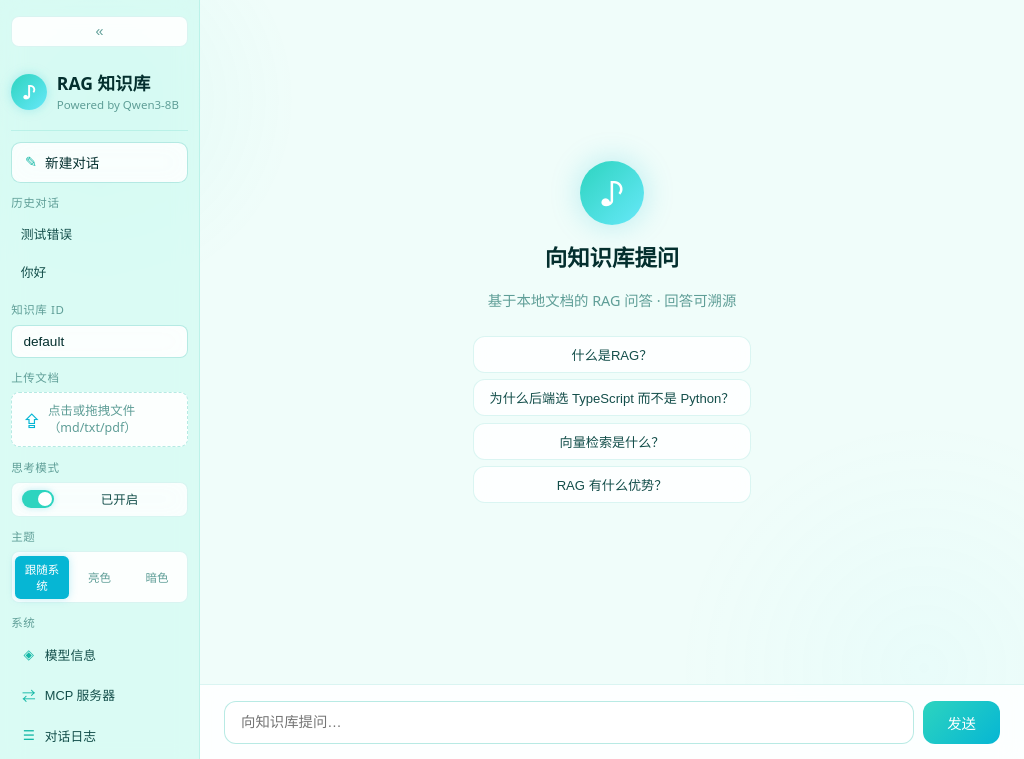
Test case: M3 流式问答页 › 空命中：sources 为空 + done.message 显示未找到提示
Type "不存在的问题" into the field with placeholder "向知识库提问…". click: {"x": 569, "y": 722}
box: [224,701,914,744]
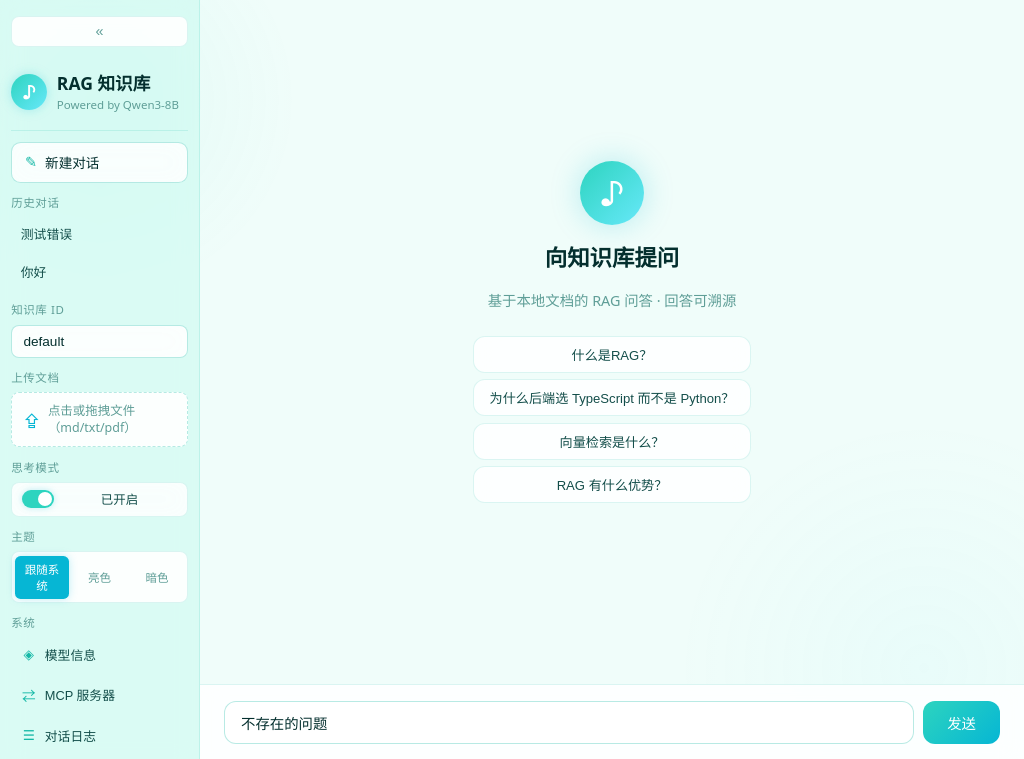
Click the button "发送". click: {"x": 962, "y": 722}
box: [923,701,1000,744]
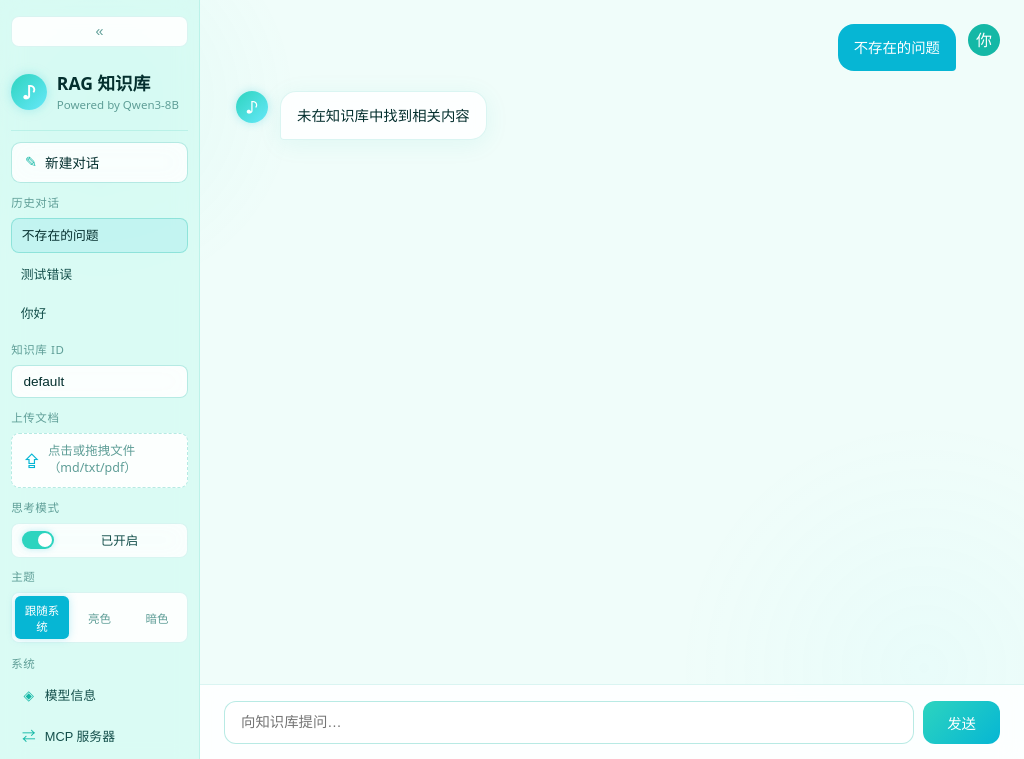
Now the text "未在知识库中找到相关内容" is shown, box [280,91,487,140]
